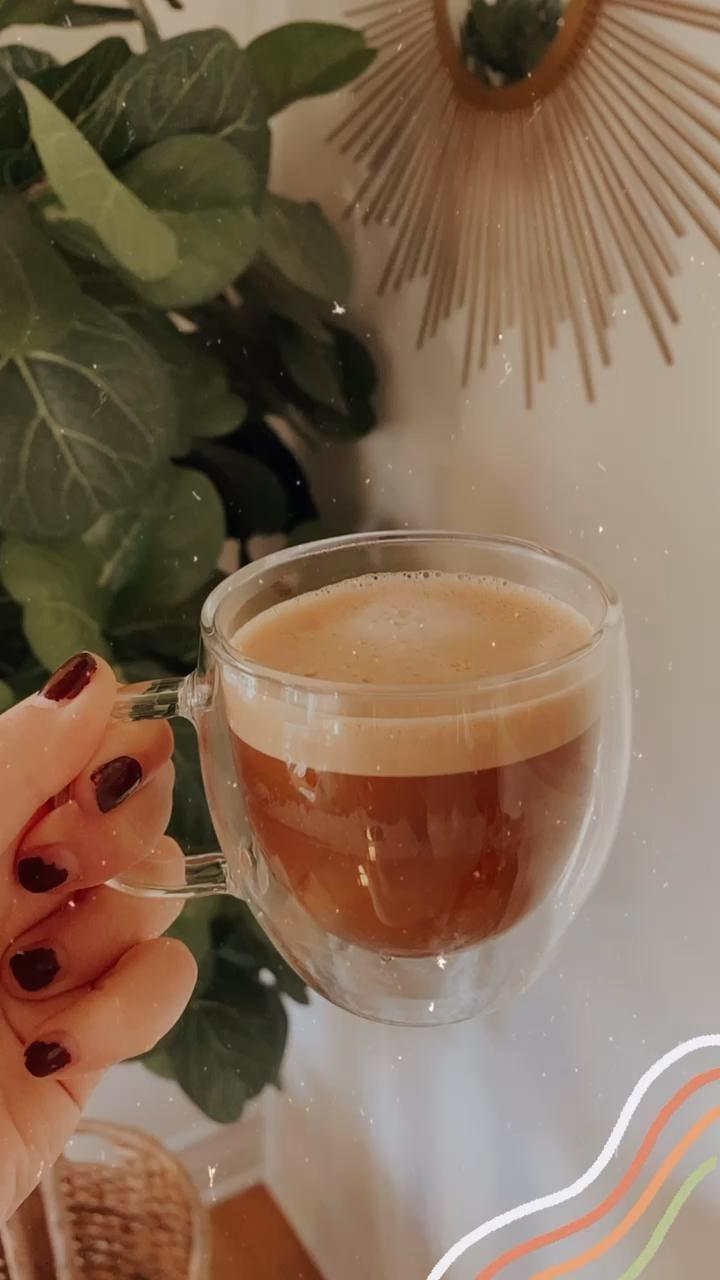glass-mug: (68, 528, 633, 1028)
